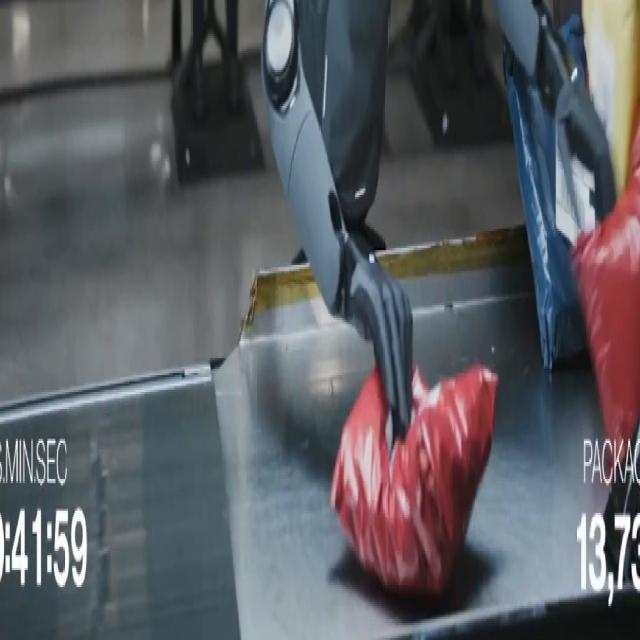package: (331, 367, 497, 597), (505, 49, 586, 370), (574, 115, 639, 447), (583, 0, 639, 194)
